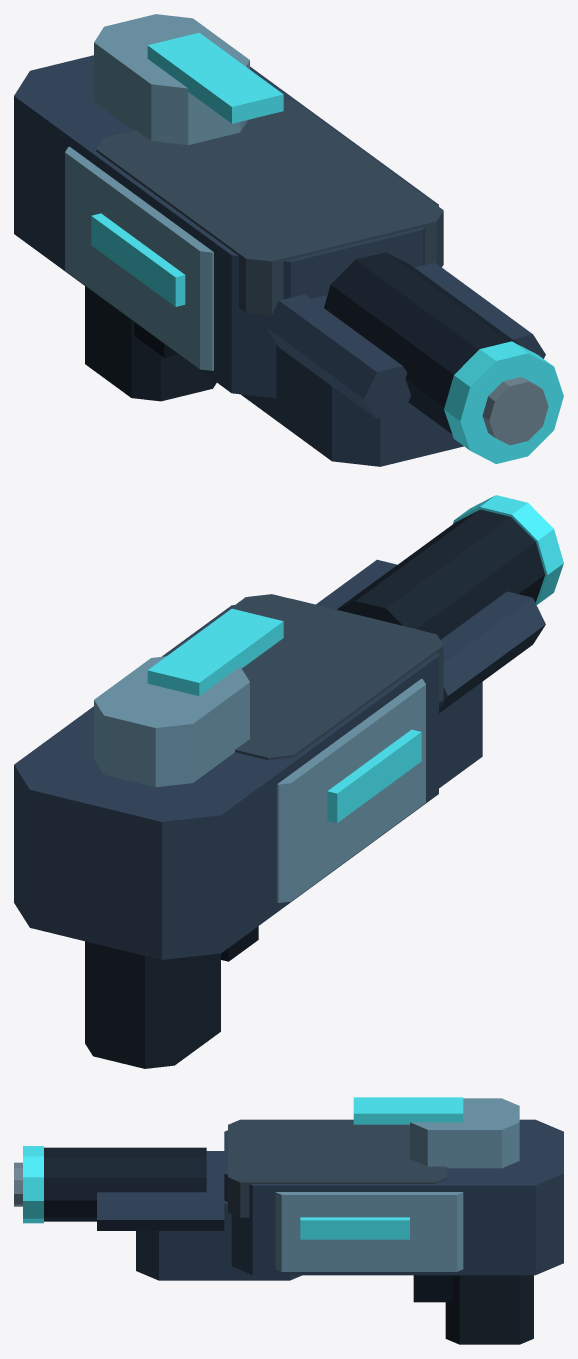
File: gun_pulse_carbine.obj
3 renders of one model, top to bottom at view 1: azimuth 30°, elevation 25°; view 2: azimuth 150°, elevation 25°; view 3: azimuth 270°, elevation 25°, orthographic. The views are drawn at different scales.
Bounding box in the file's own units: 0.522 × 0.702 × 1.55.
